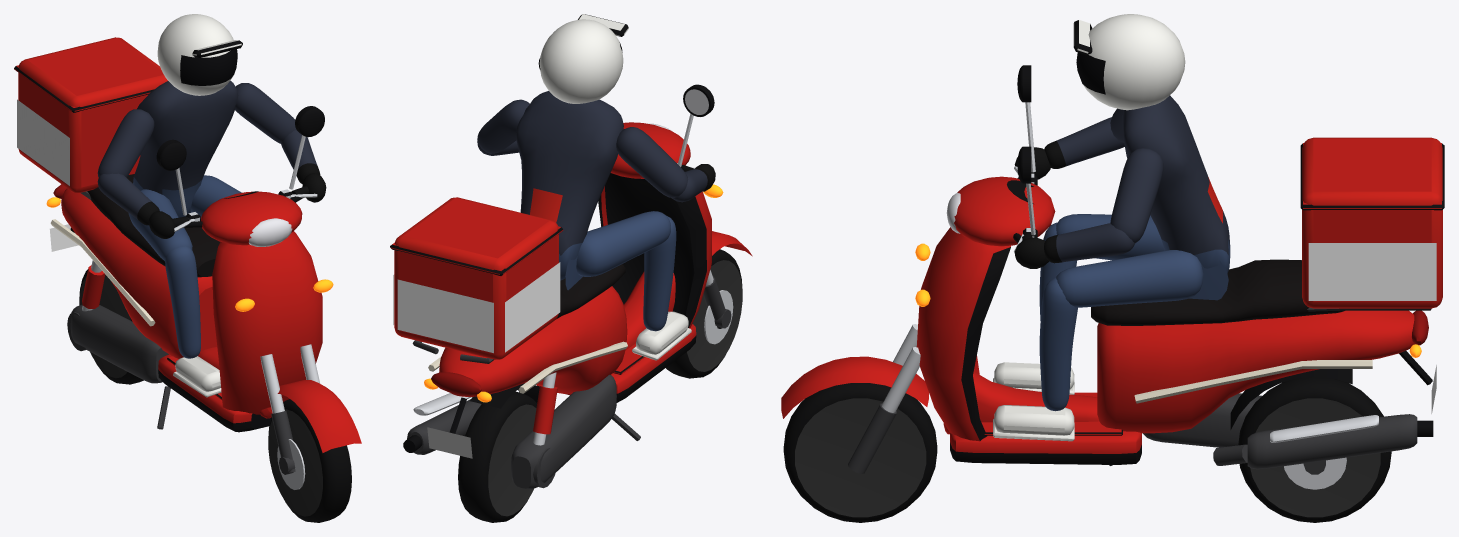
Rendered from scooter.glb.
The picture shows the model from 3 angles, left to right: view 1: azimuth 30°, elevation 25°; view 2: azimuth 150°, elevation 25°; view 3: azimuth 270°, elevation 25°; orthographic projection. The views are drawn at different scales.
Visible parts, largest first — view 1: scooter_body, steer_mesh, rider_body, wheel_front, rider_head, rider_shin_L, rider_uarm_L, rider_farm_L, rider_uarm_R, rider_farm_R, wheel_rear, rider_thigh_L (+1 smaller); view 2: scooter_body, rider_body, wheel_rear, rider_head, wheel_front, rider_shin_L, rider_thigh_L, steer_mesh, rider_uarm_L, rider_uarm_R, rider_farm_L; view 3: scooter_body, wheel_front, steer_mesh, wheel_rear, rider_body, rider_head, rider_shin_R, rider_thigh_R, rider_farm_R, rider_uarm_R, rider_farm_L, rider_shin_L (+1 smaller).
Part boxes in pixels (<box>): scooter_body: <box>14,37,333,432</box>; steer_mesh: <box>156,106,361,472</box>; rider_body: <box>133,80,238,217</box>; wheel_front: <box>268,399,351,522</box>; rider_head: <box>157,14,242,95</box>; rider_shin_L: <box>165,246,221,397</box>; rider_uarm_L: <box>97,109,154,177</box>; rider_farm_L: <box>97,173,175,238</box>; rider_uarm_R: <box>235,83,296,143</box>; rider_farm_R: <box>281,130,326,202</box>; wheel_rear: <box>79,269,143,384</box>; rider_thigh_L: <box>128,189,192,260</box>; scooter_body: <box>390,165,723,489</box>; rider_body: <box>516,91,623,290</box>; wheel_rear: <box>458,391,537,522</box>; rider_head: <box>539,14,628,103</box>; wheel_front: <box>666,249,742,378</box>; rider_shin_L: <box>632,215,691,360</box>; rider_thigh_L: <box>576,211,670,276</box>; steer_mesh: <box>538,58,752,328</box>; rider_uarm_L: <box>616,127,688,197</box>; rider_uarm_R: <box>477,99,529,153</box>; rider_farm_L: <box>671,164,715,202</box>; scooter_body: <box>915,137,1444,469</box>; wheel_front: <box>783,383,937,522</box>; steer_mesh: <box>781,65,1055,473</box>; wheel_rear: <box>1238,377,1391,522</box>; rider_body: <box>1122,95,1230,300</box>; rider_head: <box>1073,14,1185,110</box>; rider_shin_R: <box>993,278,1077,441</box>; rider_thigh_R: <box>1056,250,1203,307</box>; rider_farm_R: <box>1014,223,1134,268</box>; rider_uarm_R: <box>1110,148,1163,243</box>; rider_farm_L: <box>1014,117,1124,179</box>; rider_shin_L: <box>993,222,1077,394</box>.
Bounding box in the file's own units: 0.8876 × 1.73 × 2.07.
